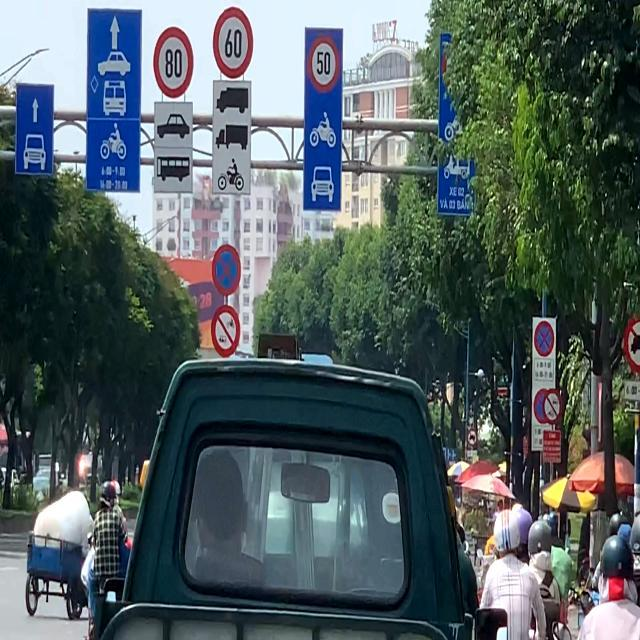P-127: (211, 4, 253, 79), (152, 24, 192, 98)
P-130: (213, 244, 240, 295)
